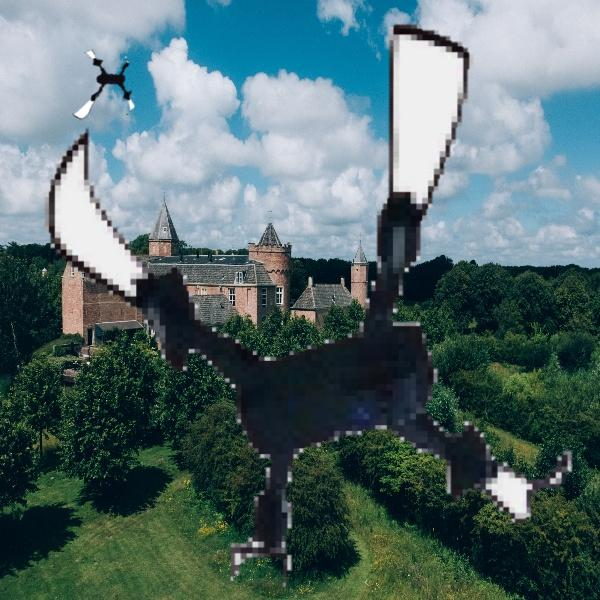drone: (9, 12, 593, 596), (60, 45, 146, 131)
